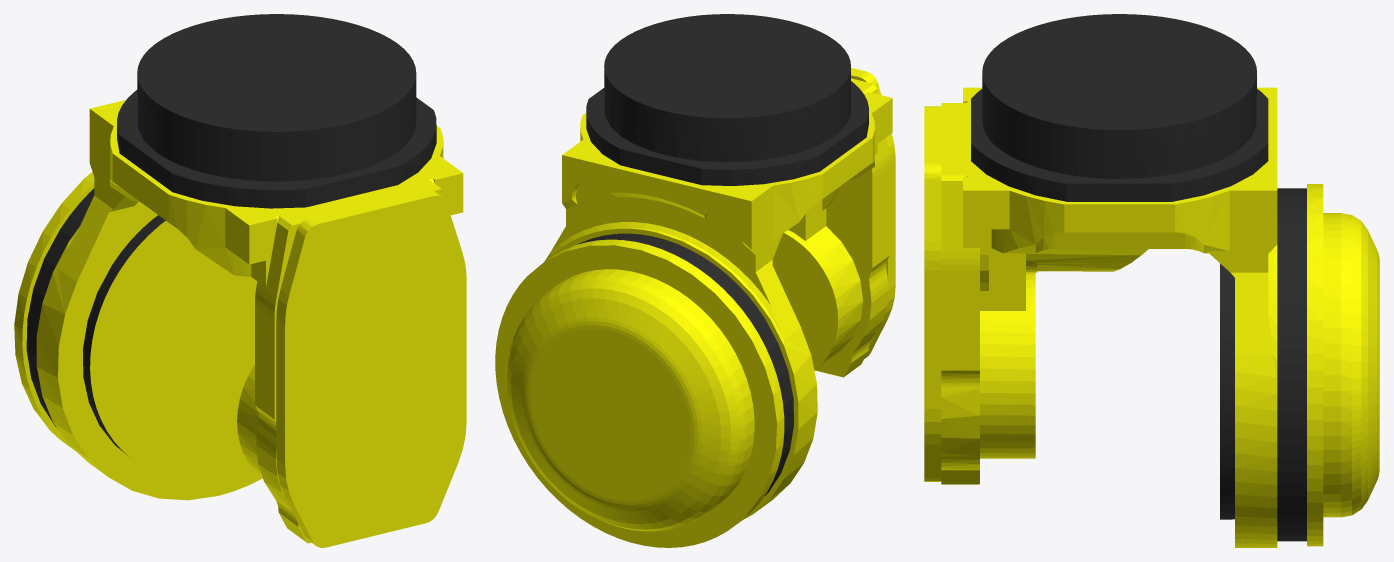
3 renders of one model, left to right at view 1: azimuth 30°, elevation 25°; view 2: azimuth 150°, elevation 25°; view 3: azimuth 270°, elevation 25°, orthographic. The views are drawn at different scales.
Parts seen in each view (by area): view 1: node; view 2: node; view 3: node.
Part boxes in pixels (x1,y1,x2,y2): node: (14, 14, 466, 547); node: (495, 14, 895, 547); node: (924, 14, 1379, 547).
Size of the model in its own units: 246 by 341 by 306.
